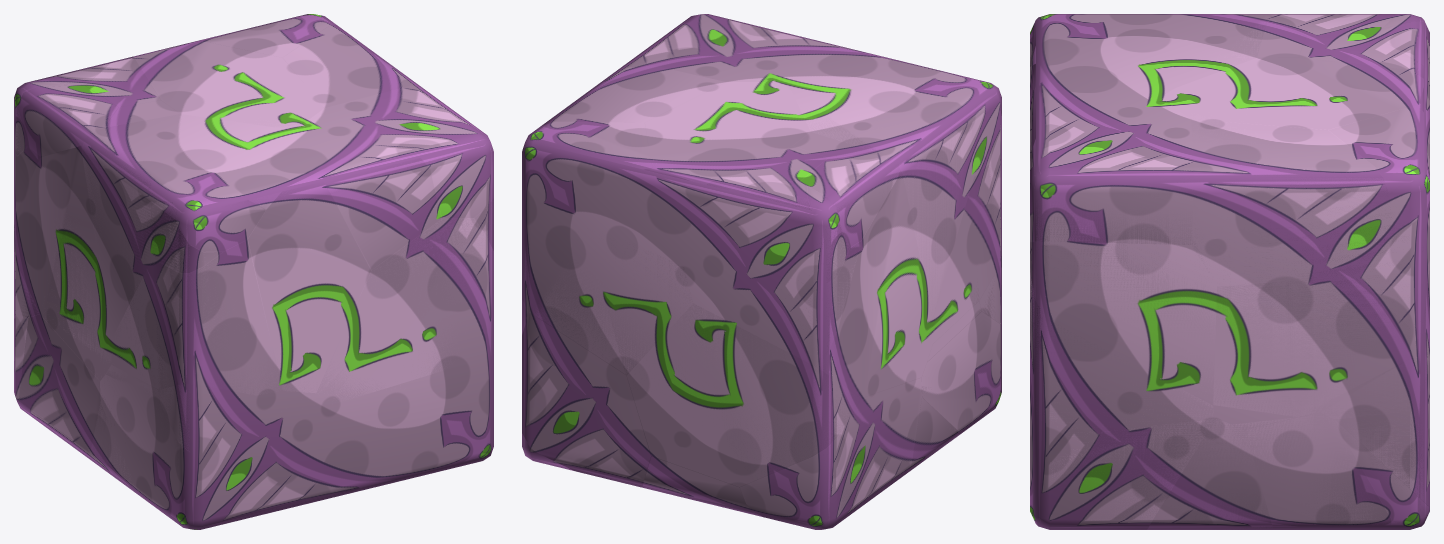
The model's file is BreakableBox.fbx.
The picture shows the model from 3 angles, left to right: view 1: azimuth 30°, elevation 25°; view 2: azimuth 150°, elevation 25°; view 3: azimuth 270°, elevation 25°; orthographic projection. The views are drawn at different scales.
Parts seen in each view (by area): view 1: Cube, Cube_cell.037, Cube_cell.035, Cube_cell.028, Cube_cell.040, Cube_cell.026, Cube_cell.029, Cube_cell.017, Cube_cell.023, Cube_cell.034, Cube_cell.039, Cube_cell.030 (+8 smaller); view 2: Cube, Cube_cell.018, Cube_cell.040, Cube_cell.004, Cube_cell.026, Cube_cell.034, Cube_cell.017, Cube_cell.013, Cube_cell.021, Cube_cell.023, Cube_cell.037, Cube_cell.019 (+10 smaller); view 3: Cube, Cube_cell.021, Cube_cell.026, Cube_cell.023, Cube_cell.030, Cube_cell, Cube_cell.007, Cube_cell.031, Cube_cell.009, Cube_cell.022, Cube_cell.004, Cube_cell.044 (+7 smaller).
Part boxes in pixels (x1=…): Cube: x1=14, y1=24, x2=493, y2=529; Cube_cell.037: x1=111, y1=240, x2=280, y2=395; Cube_cell.035: x1=248, y1=181, x2=370, y2=393; Cube_cell.028: x1=317, y1=218, x2=493, y2=401; Cube_cell.040: x1=14, y1=100, x2=179, y2=380; Cube_cell.026: x1=134, y1=41, x2=324, y2=128; Cube_cell.029: x1=324, y1=158, x2=441, y2=269; Cube_cell.017: x1=18, y1=314, x2=100, y2=452; Cube_cell.023: x1=283, y1=25, x2=421, y2=107; Cube_cell.034: x1=81, y1=114, x2=197, y2=331; Cube_cell.039: x1=17, y1=85, x2=117, y2=156; Cube_cell.030: x1=421, y1=141, x2=493, y2=218; Cube: x1=522, y1=14, x2=1001, y2=529; Cube_cell.018: x1=626, y1=303, x2=860, y2=486; Cube_cell.040: x1=793, y1=132, x2=932, y2=397; Cube_cell.004: x1=522, y1=312, x2=650, y2=487; Cube_cell.026: x1=645, y1=82, x2=810, y2=184; Cube_cell.034: x1=799, y1=101, x2=972, y2=318; Cube_cell.017: x1=754, y1=378, x2=921, y2=516; Cube_cell.013: x1=921, y1=312, x2=1000, y2=433; Cube_cell.021: x1=522, y1=228, x2=692, y2=374; Cube_cell.023: x1=541, y1=61, x2=725, y2=125; Cube_cell.037: x1=932, y1=165, x2=1000, y2=343; Cube_cell.019: x1=740, y1=425, x2=848, y2=529; Cube: x1=1030, y1=14, x2=1429, y2=529; Cube_cell.021: x1=1213, y1=270, x2=1429, y2=428; Cube_cell.026: x1=1160, y1=57, x2=1423, y2=129; Cube_cell.023: x1=1191, y1=119, x2=1396, y2=283; Cube_cell.030: x1=1030, y1=139, x2=1193, y2=244; Cube_cell: x1=1246, y1=413, x2=1391, y2=526; Cube_cell.007: x1=1147, y1=419, x2=1272, y2=529; Cube_cell.031: x1=1030, y1=242, x2=1215, y2=393; Cube_cell.009: x1=1038, y1=418, x2=1215, y2=529; Cube_cell.022: x1=1328, y1=107, x2=1423, y2=251; Cube_cell.004: x1=1344, y1=358, x2=1429, y2=506; Cube_cell.044: x1=1299, y1=35, x2=1423, y2=78.
Size of the model in its own units: 200 by 200 by 200.
